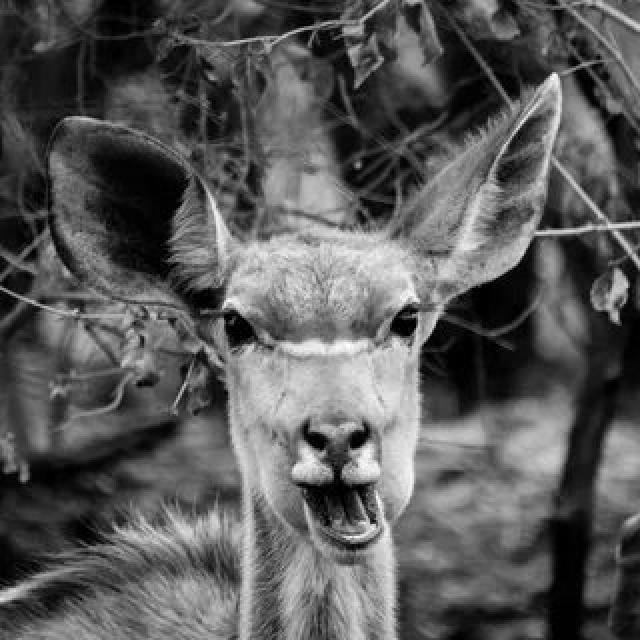Deer: (43, 72, 573, 640)
